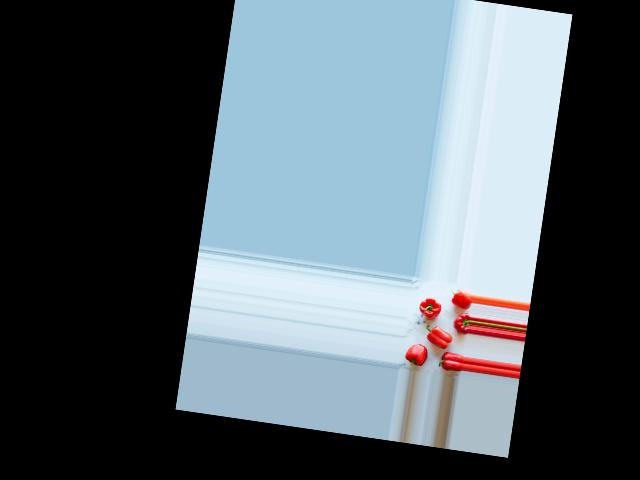bell_pepper: (451, 312, 470, 335)
